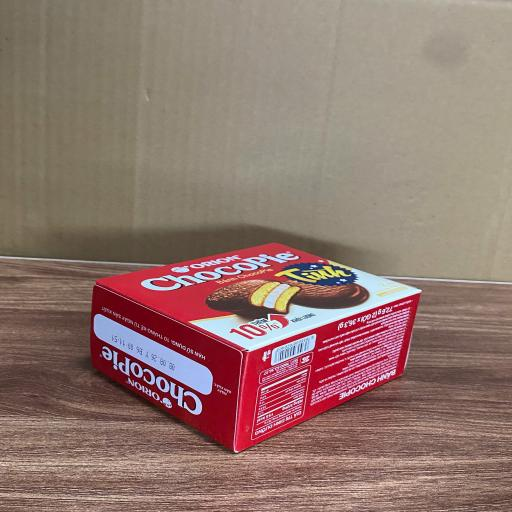chocopie: (90, 241, 420, 456)
